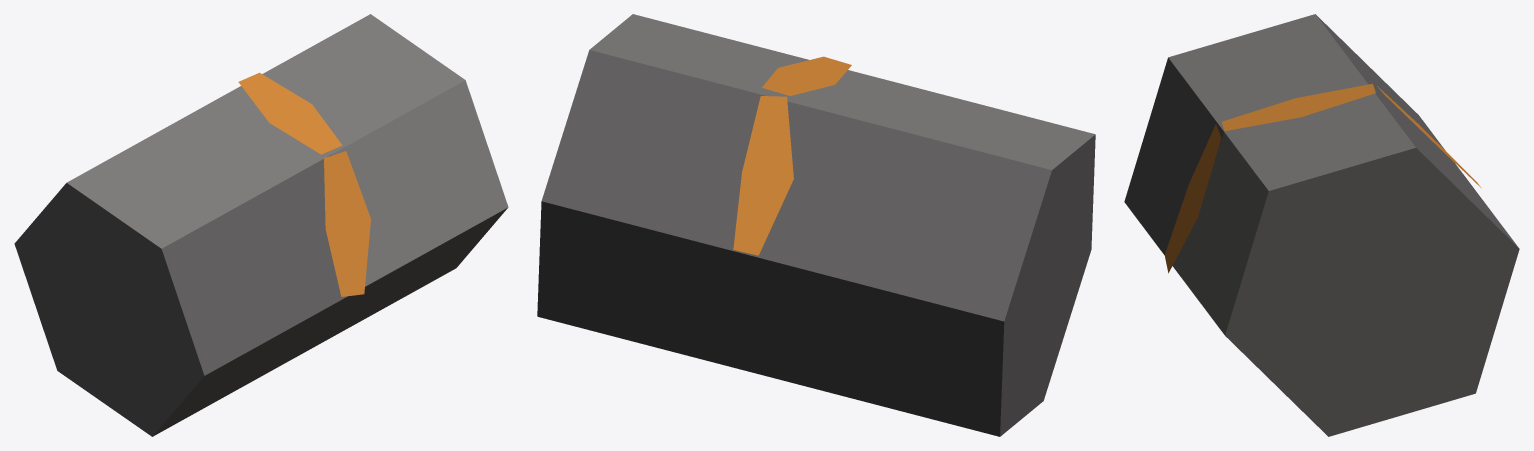
Rendered from prop_lava_chip_0.glb.
3 renders of one model, left to right at view 1: azimuth 30°, elevation 25°; view 2: azimuth 150°, elevation 25°; view 3: azimuth 270°, elevation 25°, orthographic. The views are drawn at different scales.
Visible parts, largest first — view 1: Body; view 2: Body; view 3: Body.
Boxes of the visible parts, x1=… form: Body: x1=14, y1=14, x2=508, y2=436; Body: x1=537, y1=14, x2=1095, y2=436; Body: x1=1124, y1=14, x2=1519, y2=436.
Bounding box in the file's own units: 0.6761 × 0.4558 × 0.5102.
